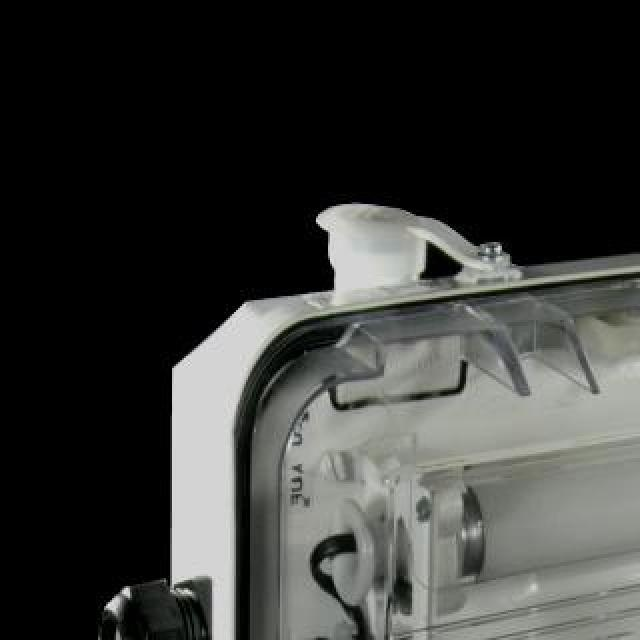fluorescent tube: (366, 346, 640, 598), (372, 540, 640, 640)
